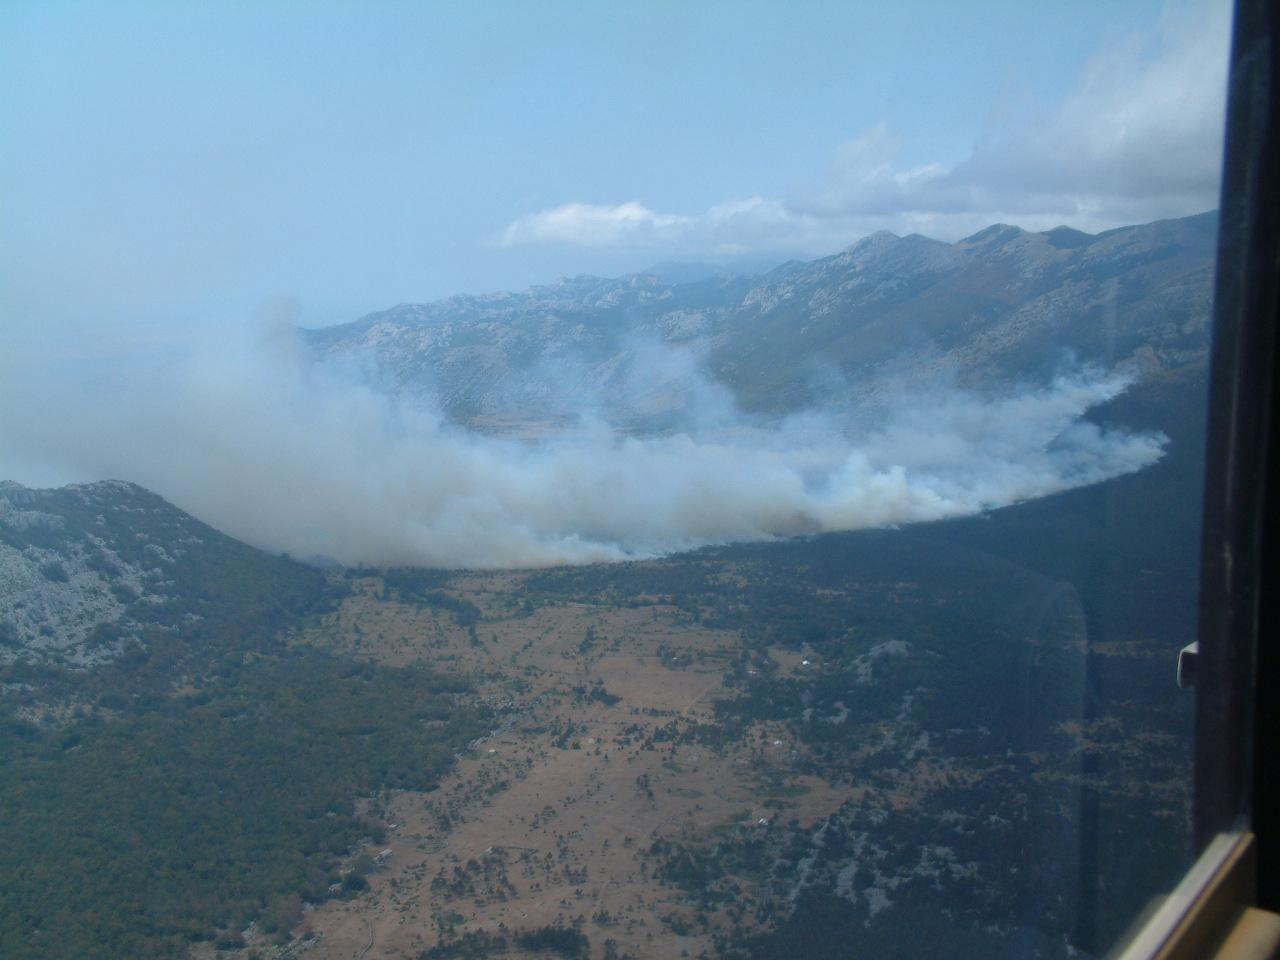Smoke: (3, 78, 1174, 574)
